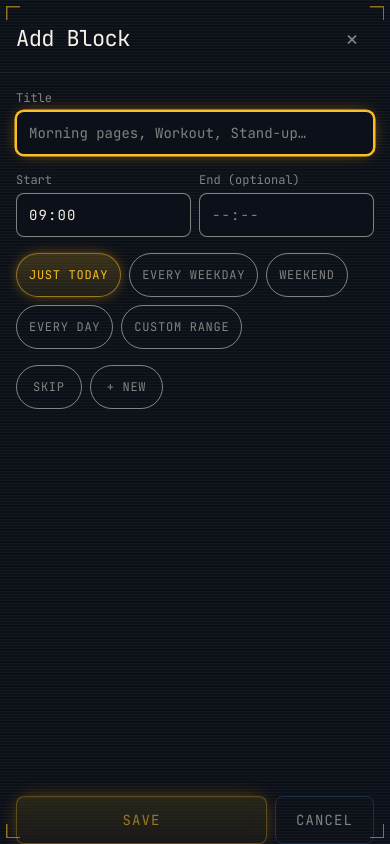
Test: C-m2-003: Empty Title disables Save › clearing Title flips Save back to aria-disabled=true
Type "Foo" into the field labelled "Title". click: (195, 133)
box: [16,111,374,155]
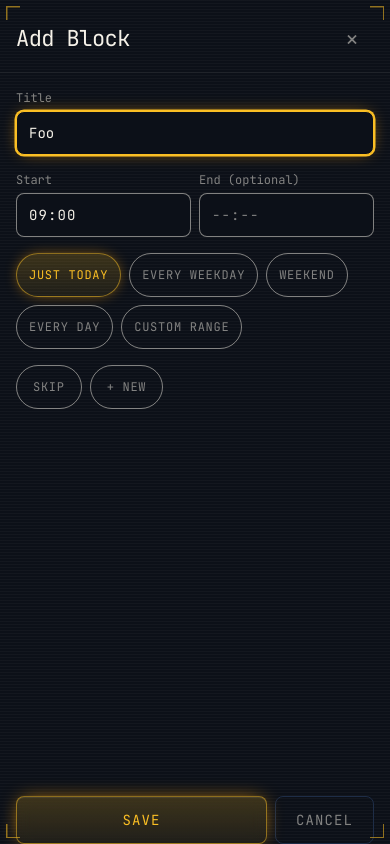
Check: the button "Save" is enabled, box [16,796,267,843]
Clear the field labelled "Title". click: (195, 133)
box: [16,111,374,155]
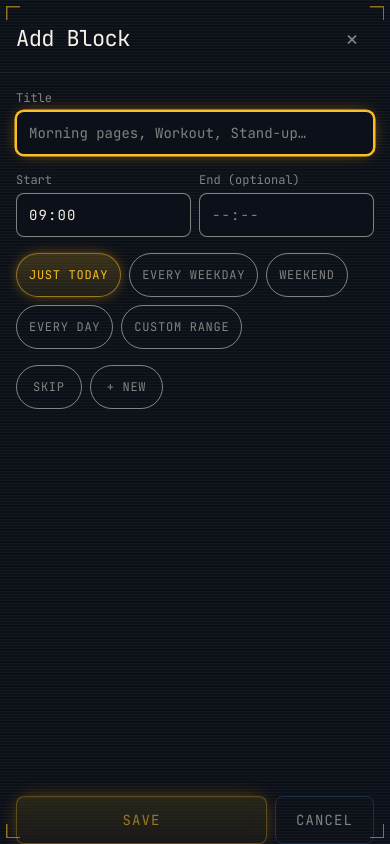
Check: the button "Save" is disabled, box [16,796,267,843]
